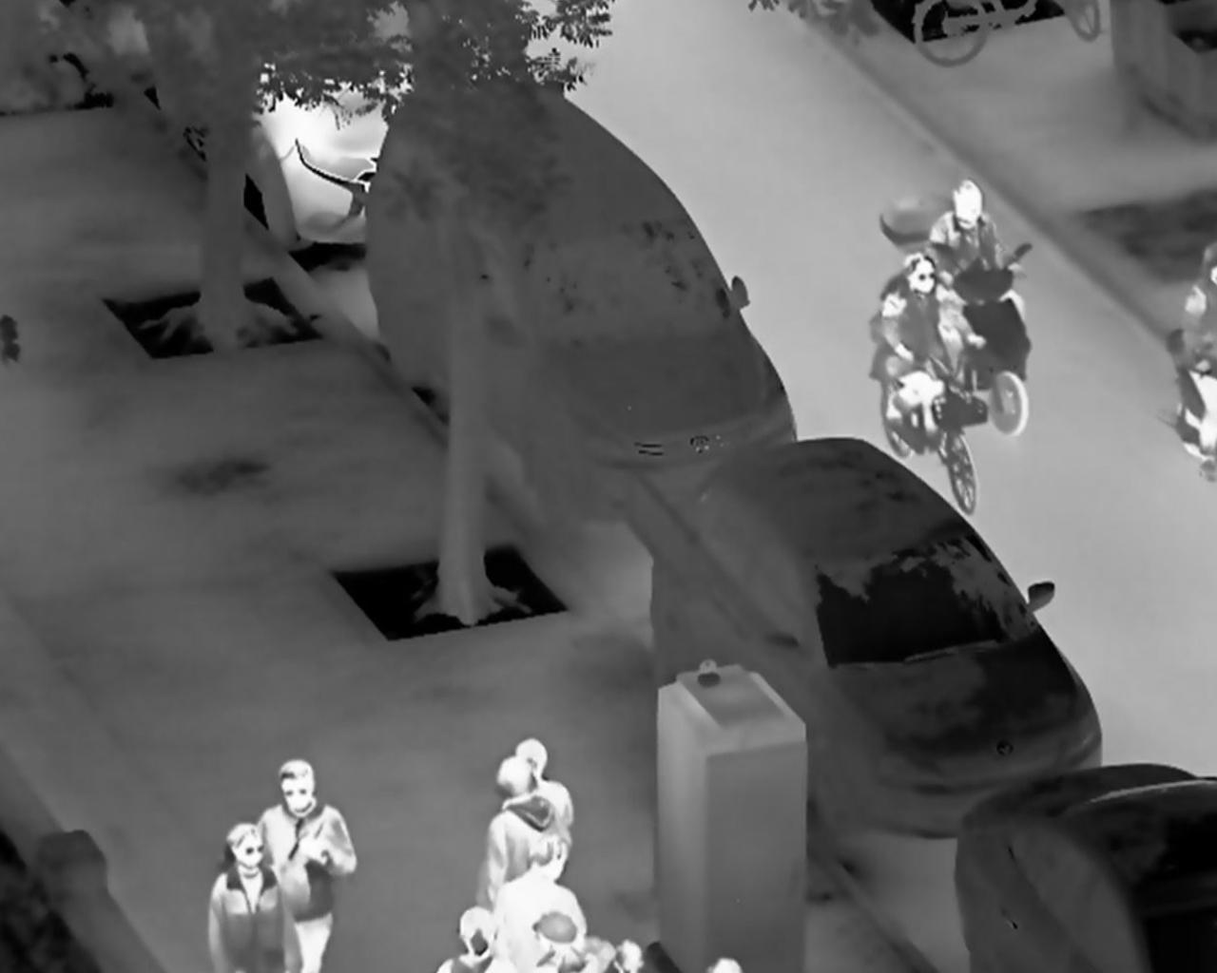person: (252, 757, 358, 973), (924, 179, 1029, 387), (879, 249, 990, 427), (481, 756, 572, 914), (205, 823, 299, 973)
